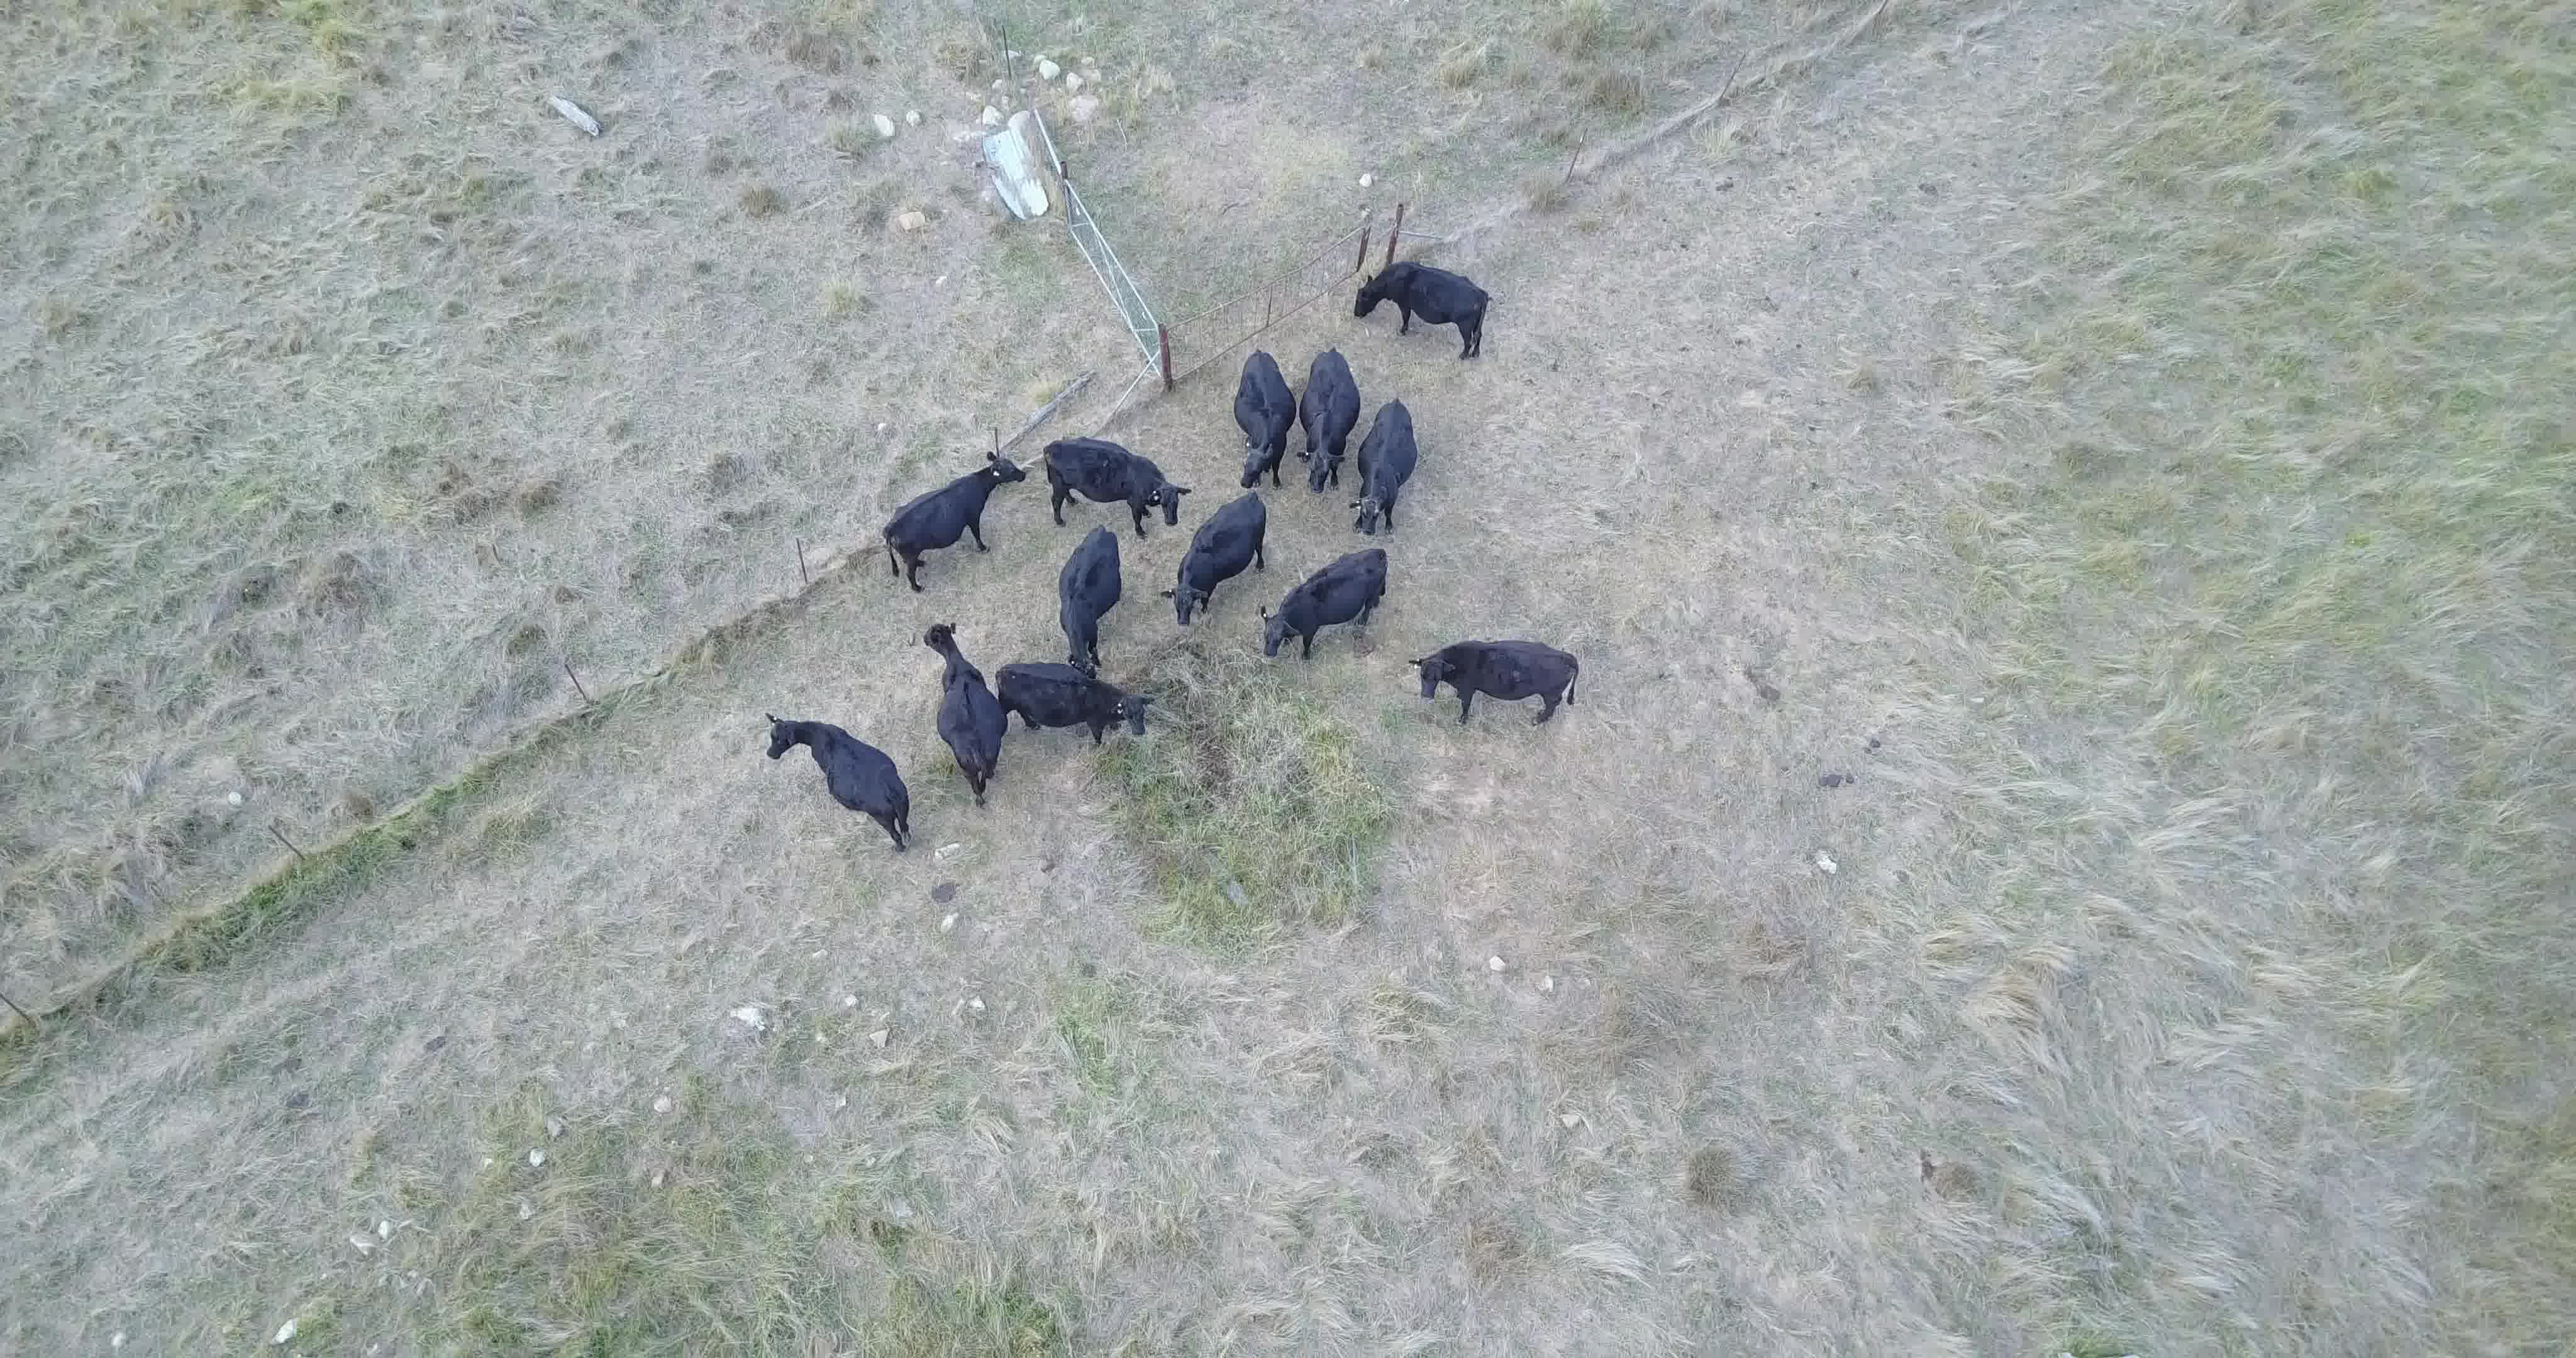cattle: (755, 711, 918, 852), (872, 452, 1032, 593), (922, 622, 1009, 811), (1032, 440, 1193, 537), (1411, 637, 1581, 728), (1256, 547, 1392, 659), (1351, 259, 1494, 363), (993, 661, 1160, 750), (1165, 489, 1268, 627), (1048, 523, 1130, 678), (1348, 394, 1419, 533), (1230, 348, 1298, 492), (1298, 344, 1363, 492)
